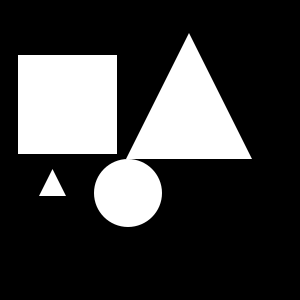circle: (18, 55, 117, 154)
rectangle: (94, 159, 162, 227)
triangle: (126, 33, 252, 159), (161, 86, 232, 157), (39, 169, 66, 196)
